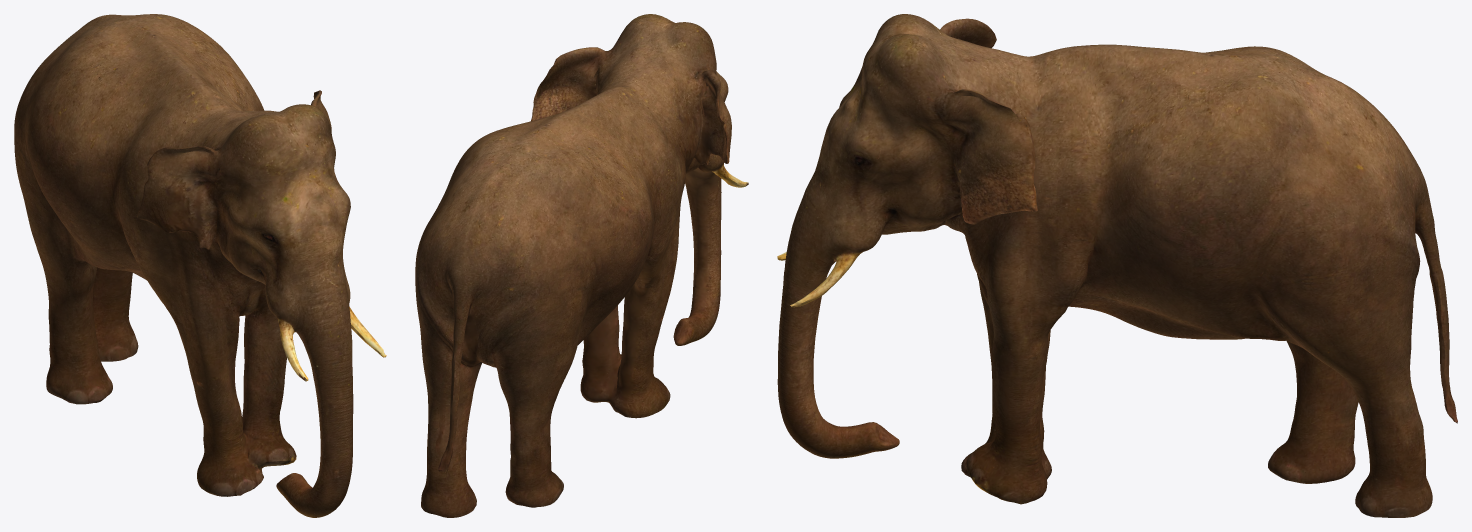
The model's file is elephant.glb.
3 renders of one model, left to right at view 1: azimuth 30°, elevation 25°; view 2: azimuth 150°, elevation 25°; view 3: azimuth 270°, elevation 25°, orthographic. The views are drawn at different scales.
Visible parts, largest first — view 1: Mesh0; view 2: Mesh0; view 3: Mesh0.
Part boxes in pixels (x1,y1,x2,y2): Mesh0: (14, 14, 386, 517); Mesh0: (415, 14, 748, 517); Mesh0: (777, 14, 1457, 517).
Size of the model in its own units: 0.7696 by 1.41 by 1.89.
1 material, 1 textured.
